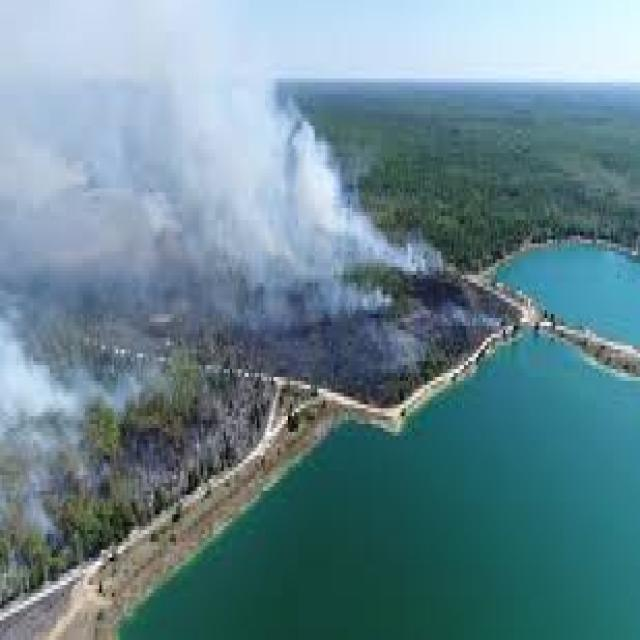Smoke: (1, 234, 160, 500), (0, 0, 168, 232), (171, 1, 334, 237), (308, 186, 487, 372), (160, 234, 310, 453)
